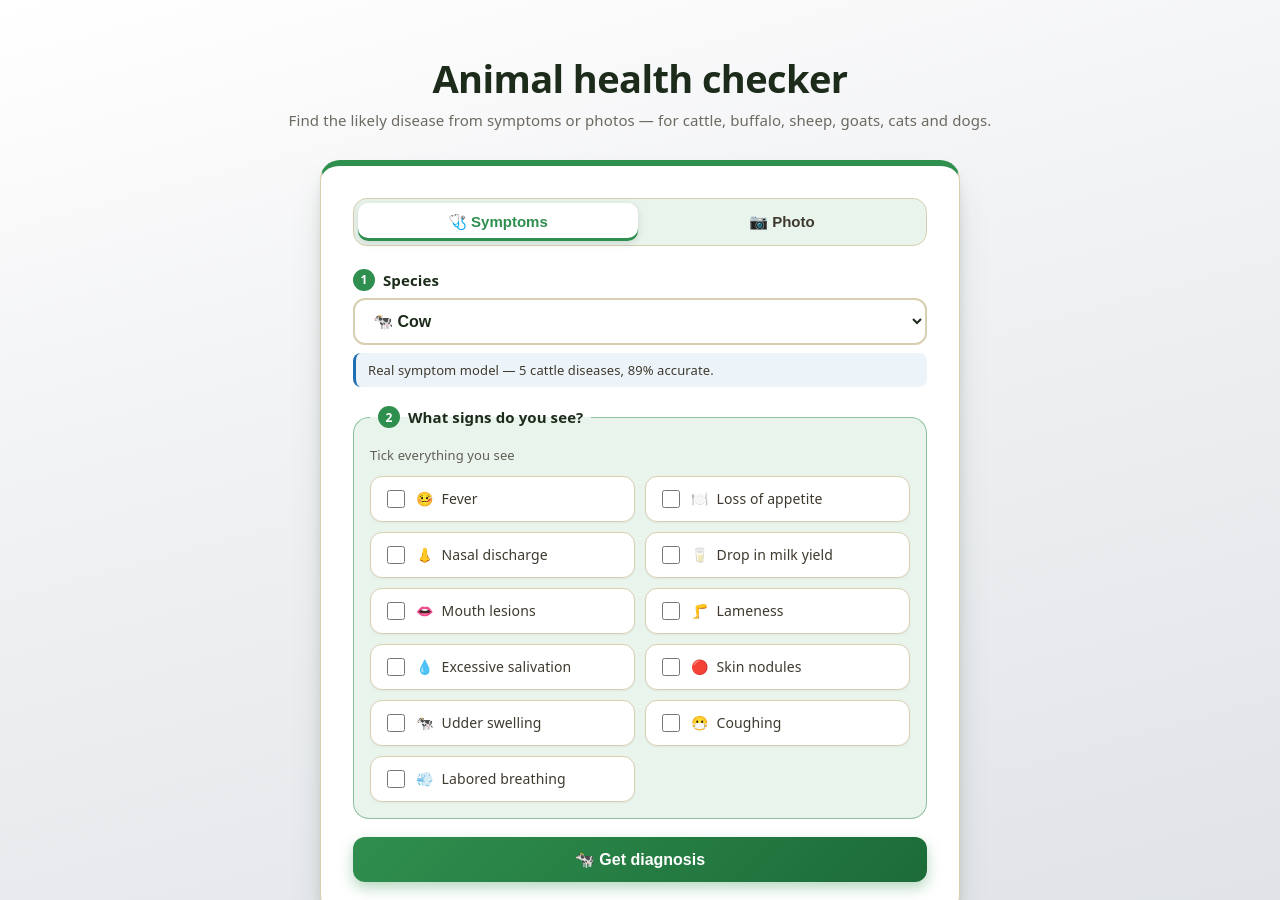
it: DiagnosisIntake › disables the photo submit button until a file is chosen
Step 1. Click the tab "📷 Photo" → x=782, y=222, box [642, 203, 922, 241]
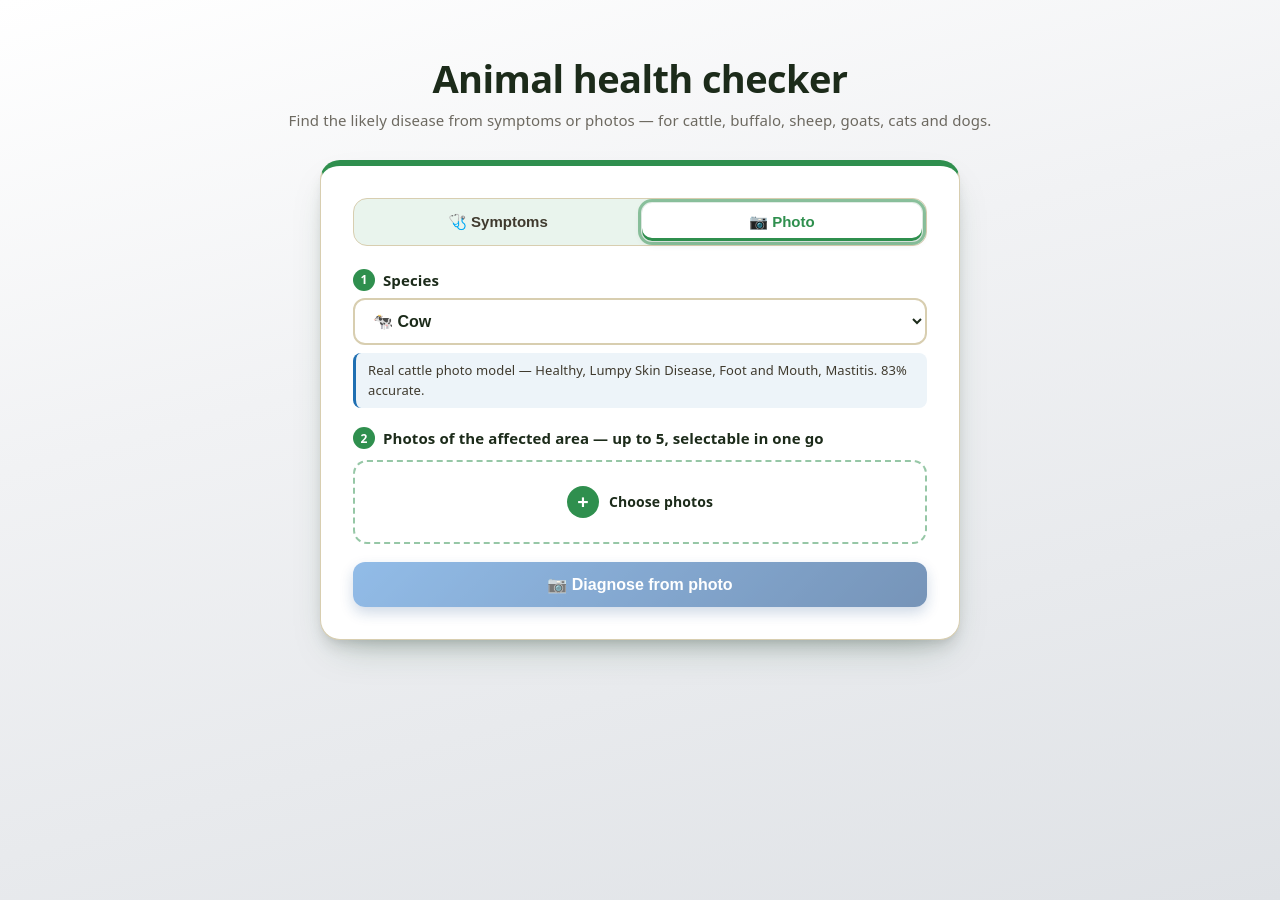
Expected: the button "📷 Diagnose from photo" is disabled, [353, 562, 927, 607]
